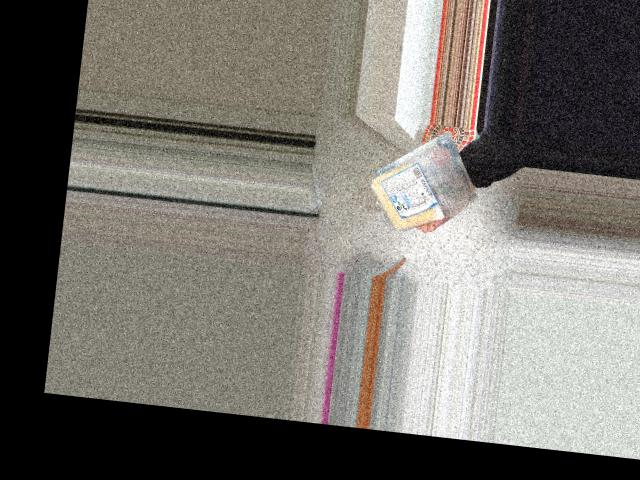cheese: (364, 164, 463, 227)
